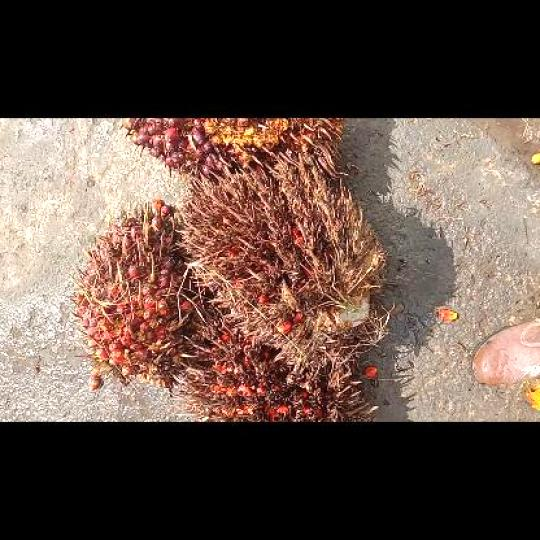masak: (70, 200, 218, 387), (121, 118, 344, 178)
terlalu masak: (176, 153, 385, 384), (171, 312, 377, 420)
